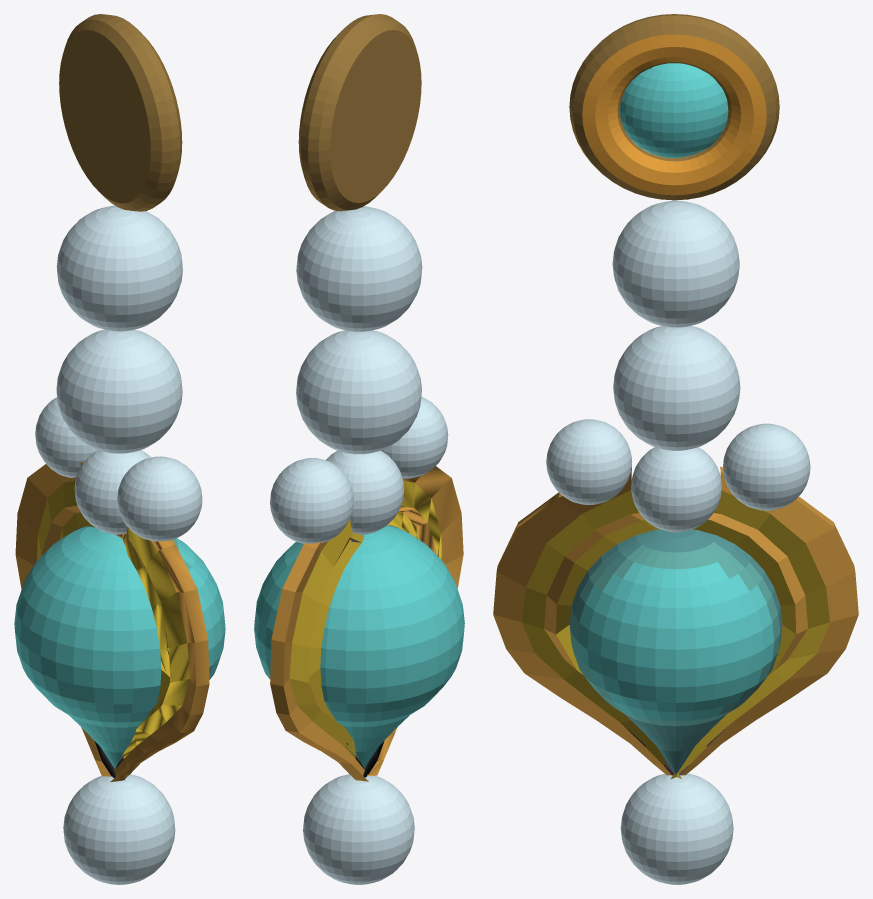
Rendered from Item_Earring_11.fbx.
3 views of the same model, side by side, from view 1: azimuth 30°, elevation 25°; view 2: azimuth 150°, elevation 25°; view 3: azimuth 270°, elevation 25° (orthographic).
Visible parts, largest first — view 1: SM_Item_Earring_11; view 2: SM_Item_Earring_11; view 3: SM_Item_Earring_11.
Part boxes in pixels (x1=…): SM_Item_Earring_11: x1=14, y1=14, x2=225, y2=884; SM_Item_Earring_11: x1=254, y1=14, x2=464, y2=884; SM_Item_Earring_11: x1=493, y1=14, x2=858, y2=884.
Bounding box in the file's own units: 253 × 1132 × 434.
